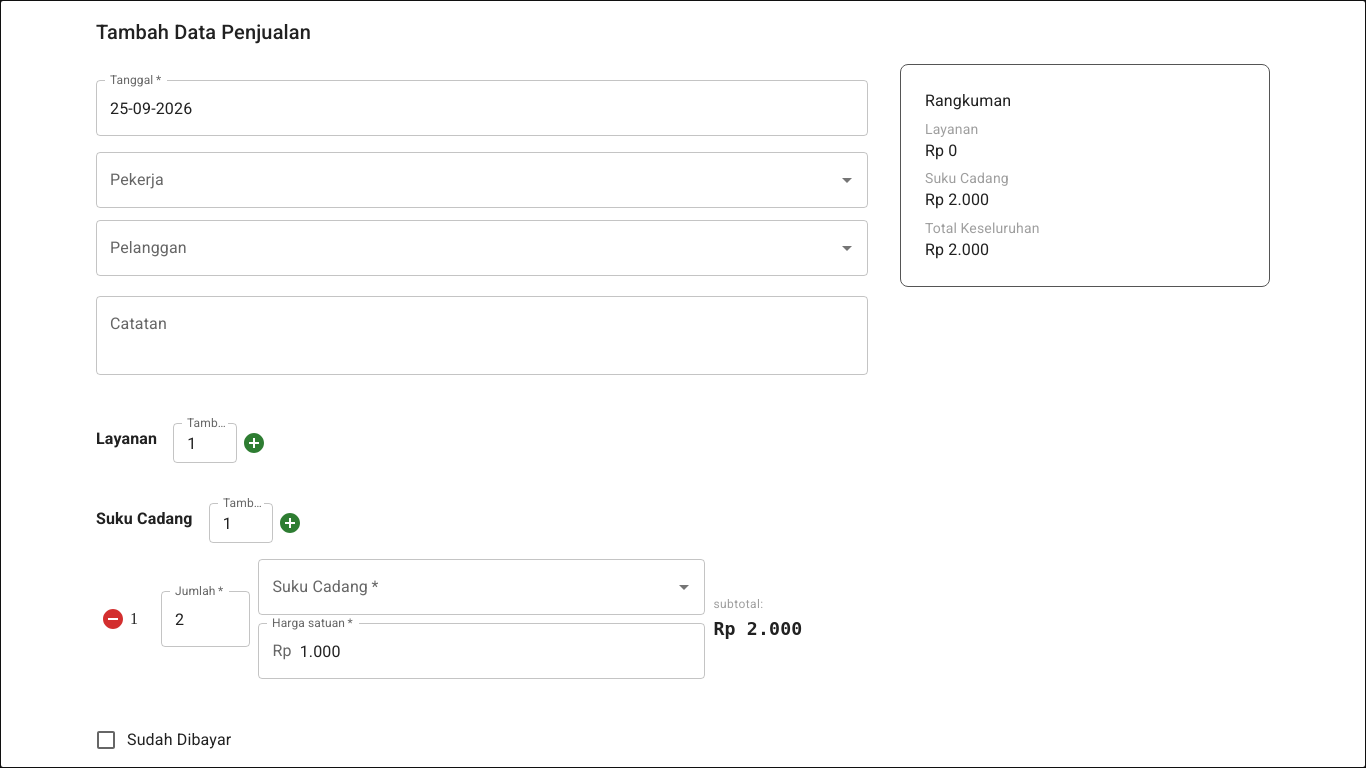
Test: can choose installment for an unpaid sale with no saved margins
Click the checkbox labelled "Sudah Dibayar": [163, 740] box 94,728 -> 231,752
(page scrolled)
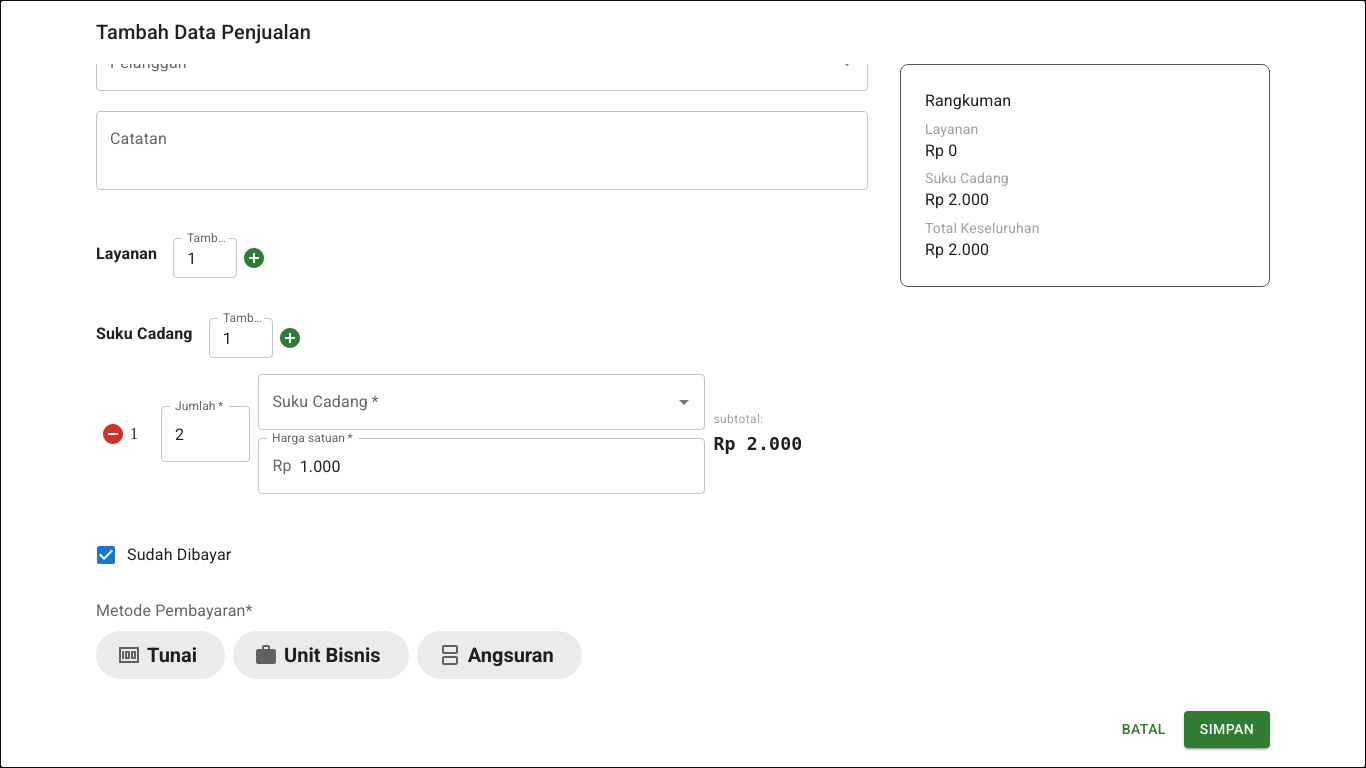
Click the button "Angsuran": [499, 655] box 417,631 -> 582,679
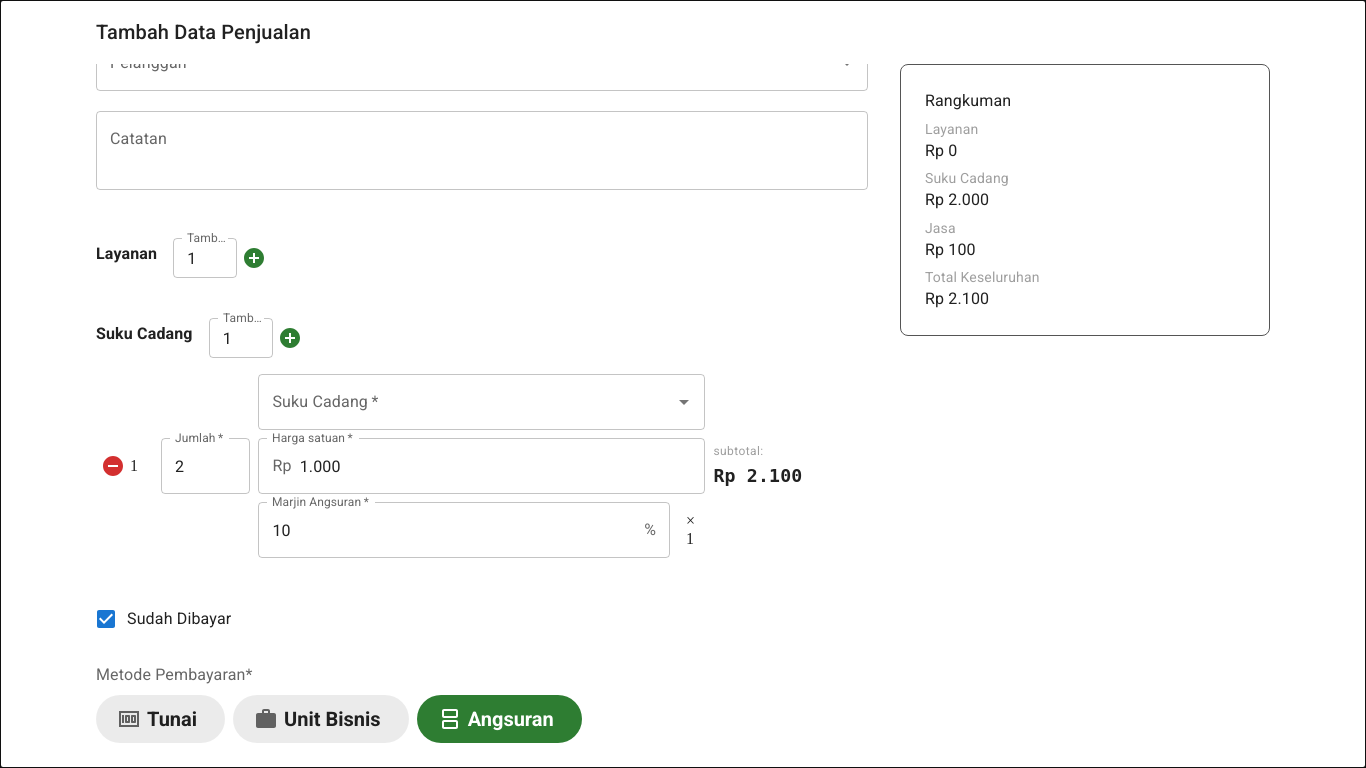
Expected: the field labelled "Marjin Angsuran" holds "10", 258,502 -> 636,558
Expected: the text "Rp 2.100" below "subtotal:" is shown, 714,465 -> 802,486
